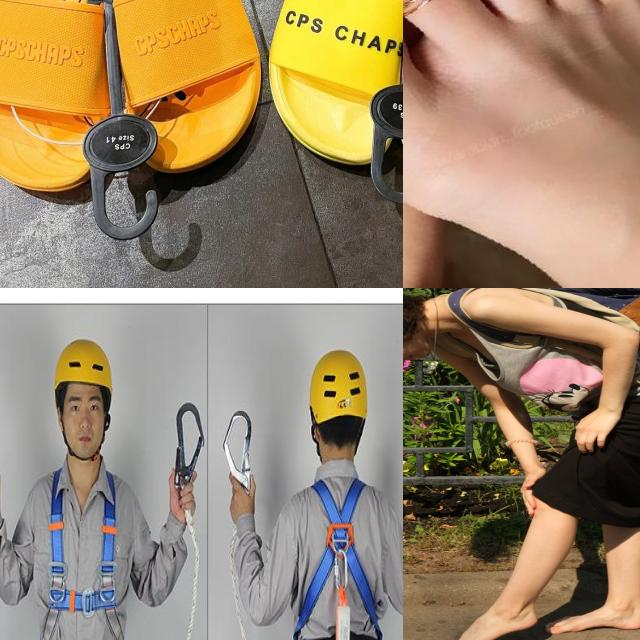Barefoots: (403, 0, 640, 288), (403, 0, 510, 288), (449, 606, 538, 640), (545, 607, 640, 634)
Harness: (29, 465, 127, 640), (298, 474, 381, 640), (220, 396, 256, 490), (175, 395, 203, 507)
No_Glasses: (68, 392, 102, 418)
Sandals: (0, 0, 264, 212), (258, 0, 403, 200)
